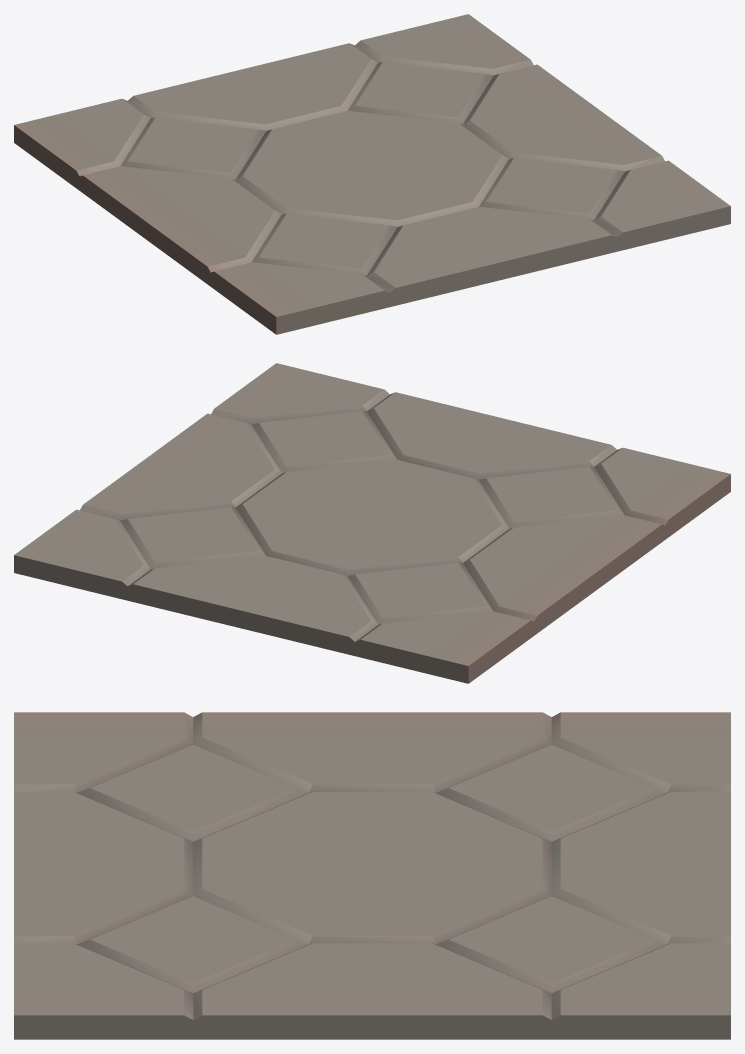
The model's file is floor_tile_large.glb.
The picture shows the model from 3 angles, top to bottom: view 1: azimuth 30°, elevation 25°; view 2: azimuth 150°, elevation 25°; view 3: azimuth 270°, elevation 25°; orthographic projection. The views are drawn at different scales.
Visible parts, largest first — view 1: floor_tile_large; view 2: floor_tile_large; view 3: floor_tile_large.
Part boxes in pixels (box(x1,y1,x2,y2)): floor_tile_large: box(14, 14, 730, 334); floor_tile_large: box(14, 363, 730, 683); floor_tile_large: box(14, 712, 730, 1039).
Size of the model in its own units: 4 by 0.1499 by 4.
Materials: 1 (1 with a texture image).
